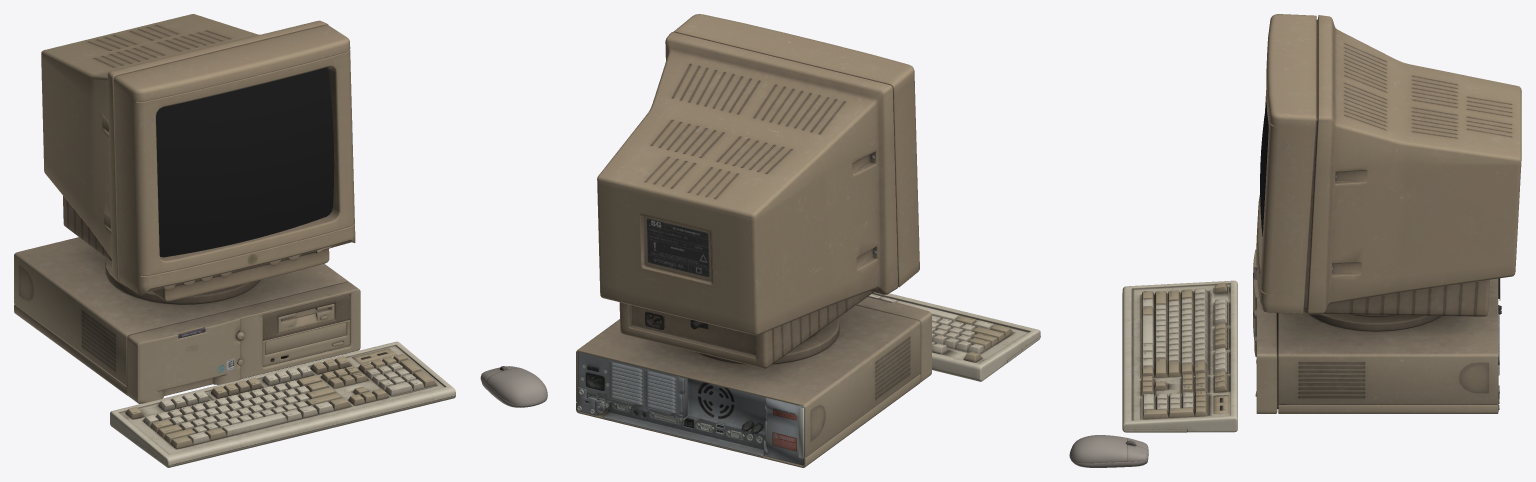
3 views of the same model, side by side, from view 1: azimuth 30°, elevation 25°; view 2: azimuth 150°, elevation 25°; view 3: azimuth 270°, elevation 25° (orthographic). The views are drawn at different scales.
Visible parts, largest first — view 1: pc, glass; view 2: pc; view 3: pc, glass.
Boxes of the visible parts, <box> form: pc: <box>14,14,547,467</box>; glass: <box>156,67,334,257</box>; pc: <box>576,14,1040,467</box>; pc: <box>1069,14,1521,467</box>; glass: <box>1260,102,1268,236</box>.
Bounding box in the file's own units: 0.6101 × 0.5049 × 0.6757.
6 materials, 5 textured.
